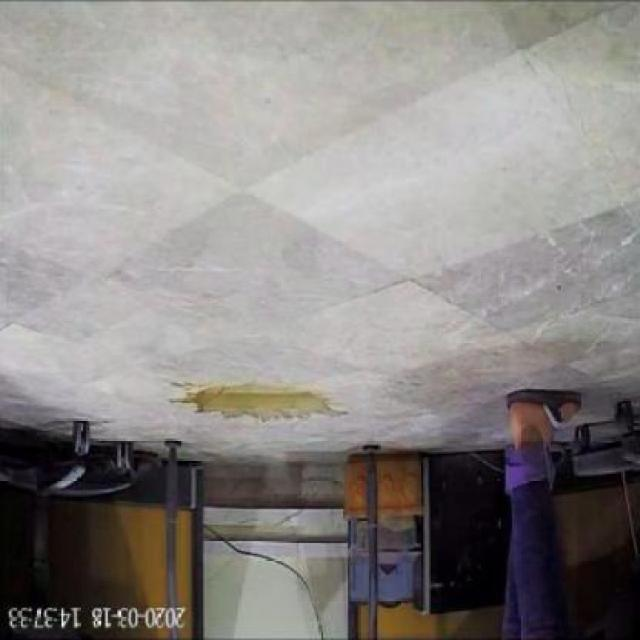spillage: (170, 383, 328, 418)
